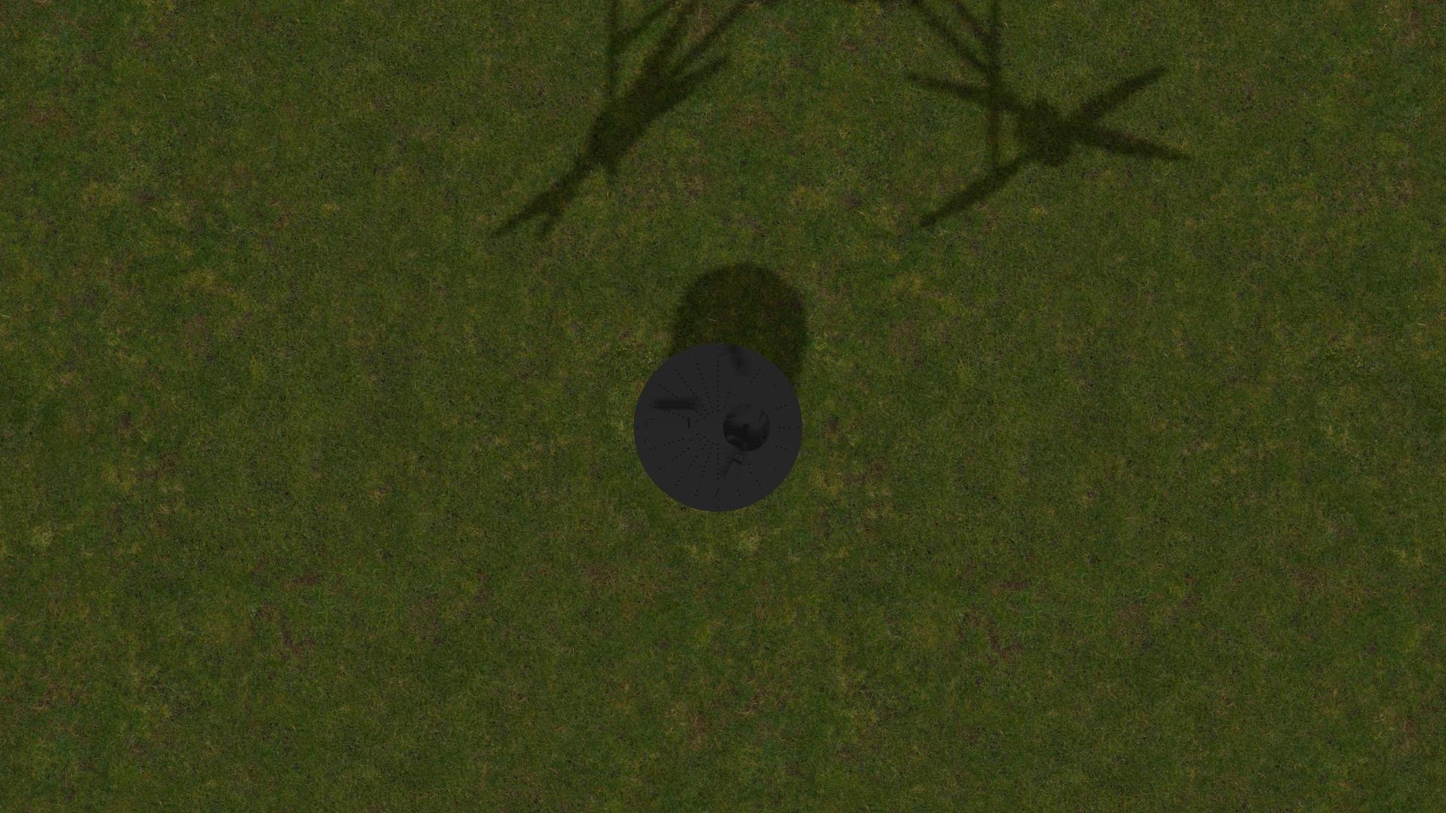alca: (714, 452, 744, 505), (715, 349, 745, 400), (642, 417, 695, 430)
armadilha: (633, 343, 802, 512)
